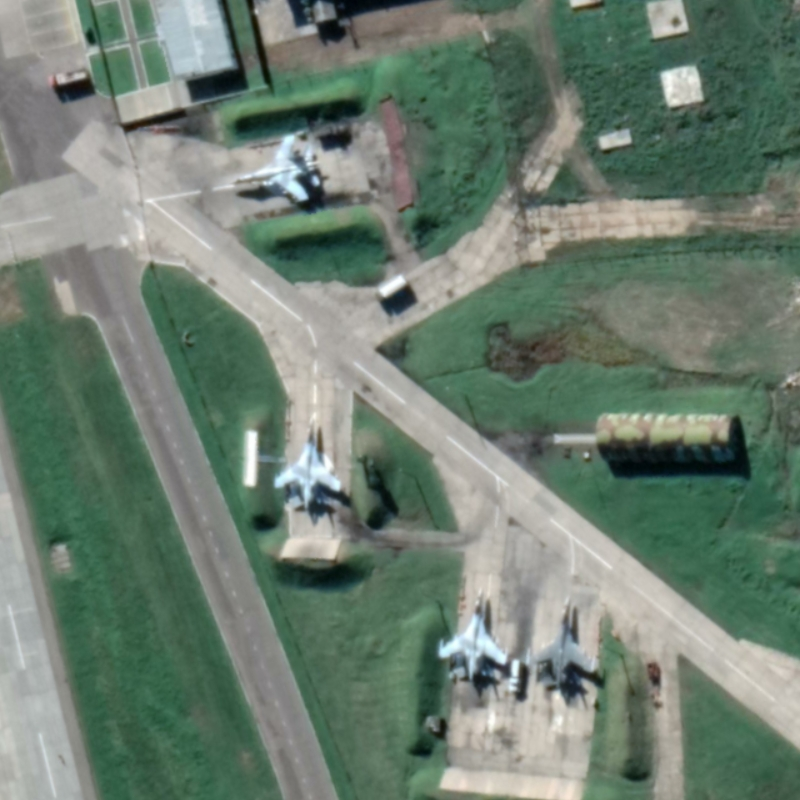A1: (435, 587, 511, 691), (530, 594, 603, 699), (227, 130, 325, 206), (270, 418, 344, 513)
